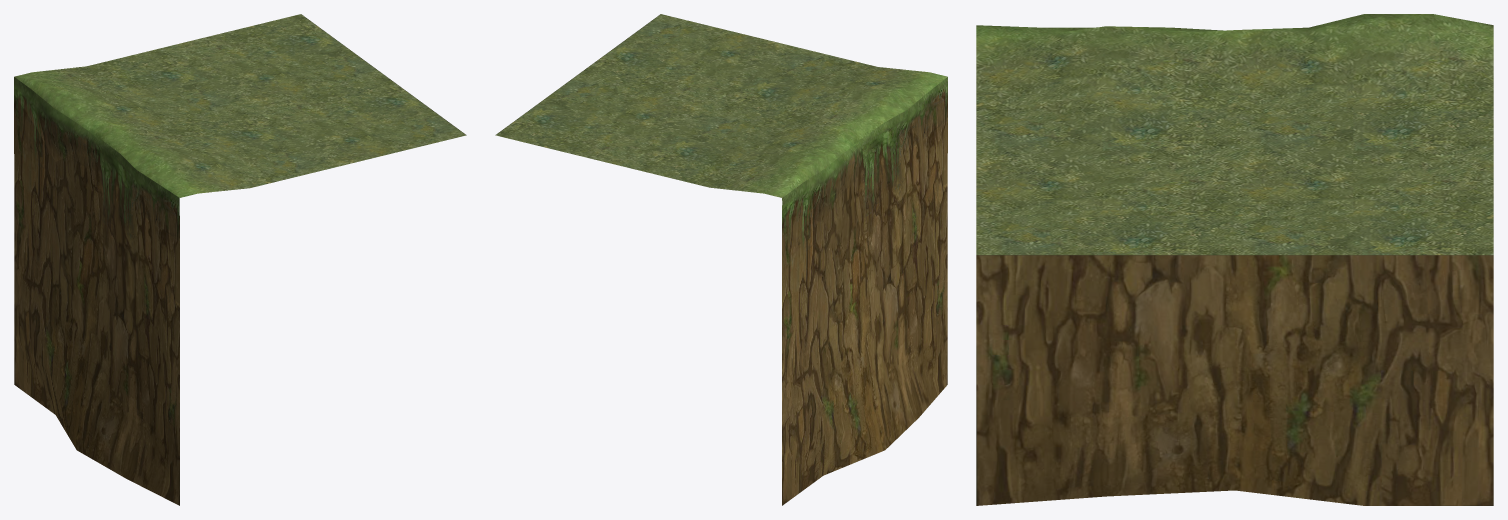
The model's file is GroundEdge.FBX.
3 views of the same model, side by side, from view 1: azimuth 30°, elevation 25°; view 2: azimuth 150°, elevation 25°; view 3: azimuth 270°, elevation 25° (orthographic). The views are drawn at different scales.
Visible parts, largest first — view 1: GroundEdge; view 2: GroundEdge; view 3: GroundEdge.
Boxes of the visible parts, box(x1,y1,x2,y2) form: GroundEdge: box(14, 14, 466, 505); GroundEdge: box(495, 14, 947, 505); GroundEdge: box(976, 14, 1493, 505).
Bounding box in the file's own units: 10.71 × 10.54 × 10.
1 material, 1 textured.
